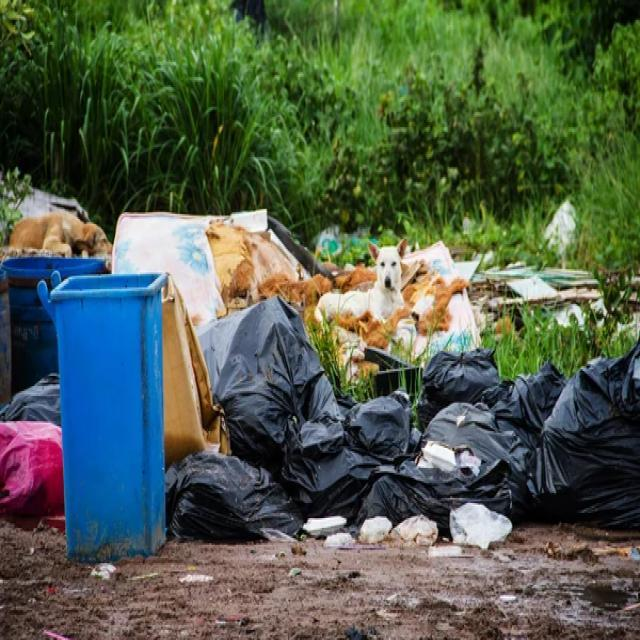garbage: (166, 296, 640, 552)
